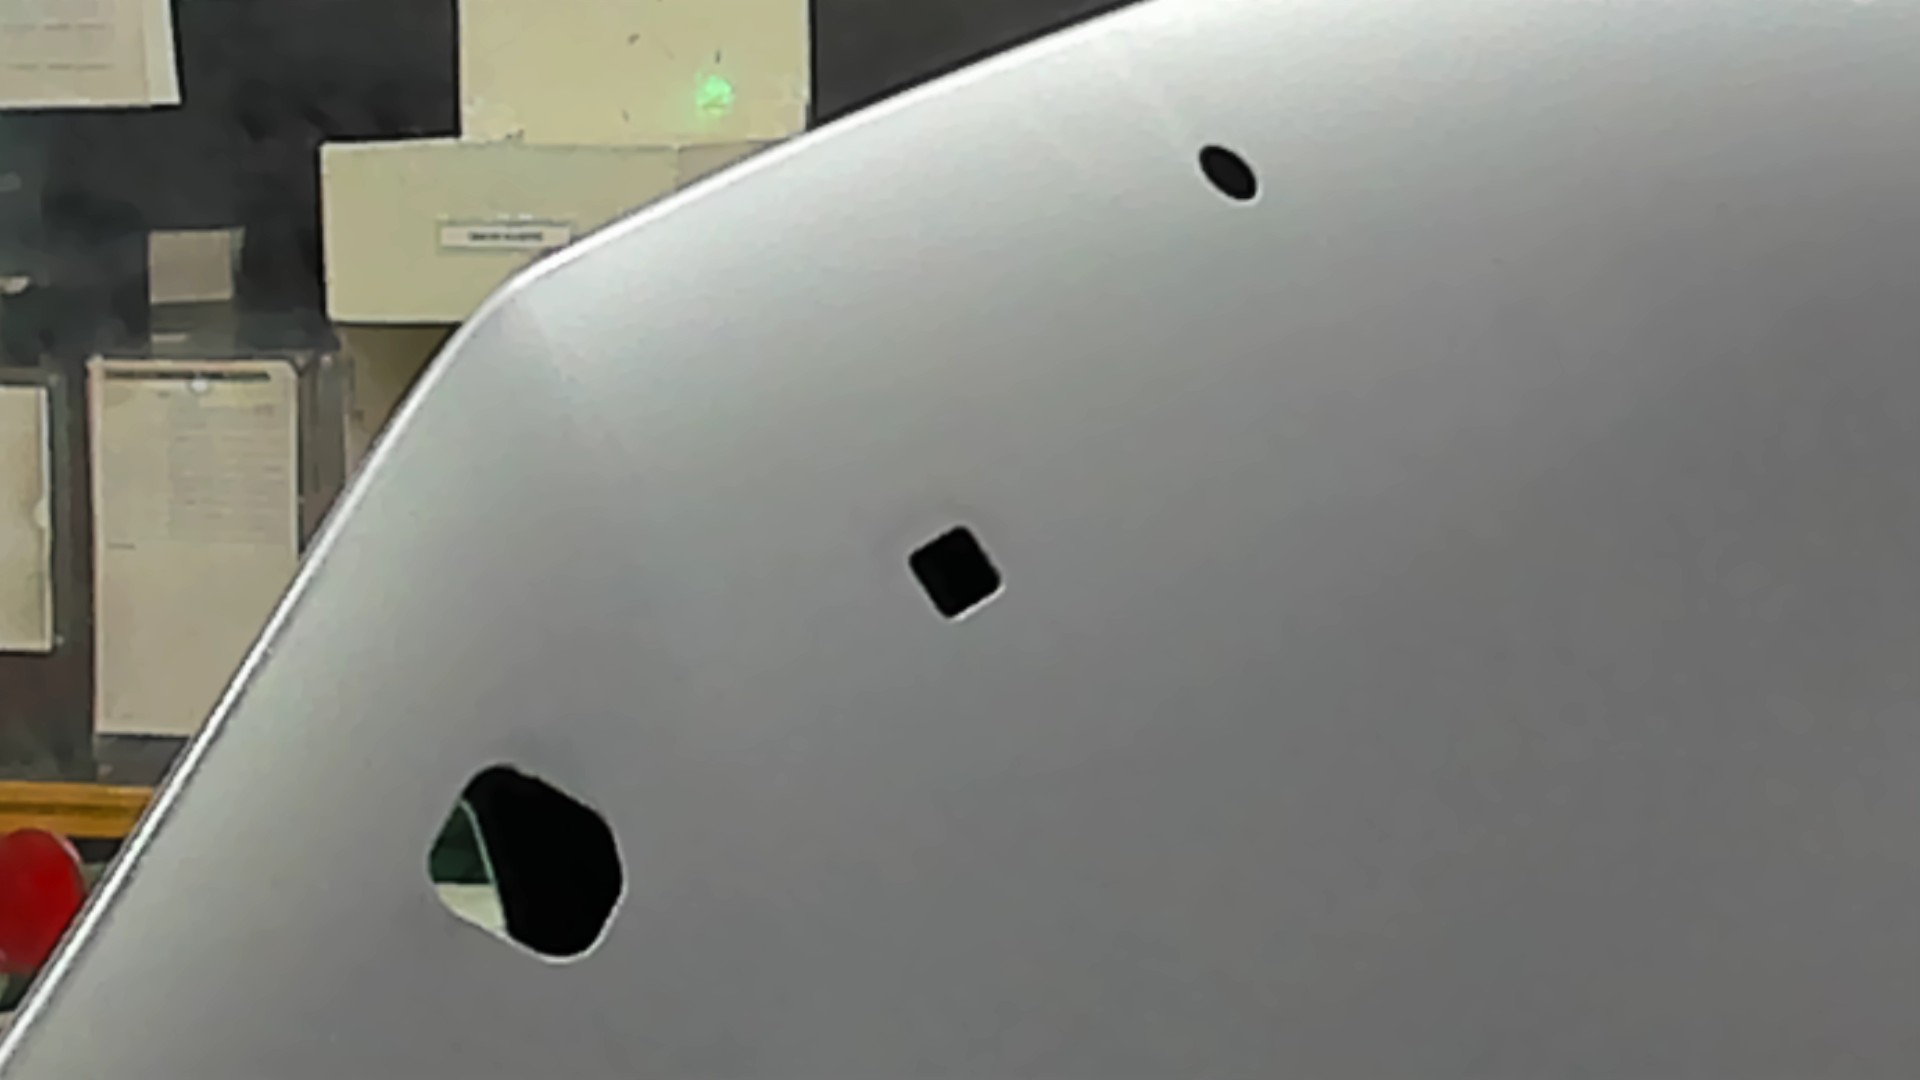chico: (1188, 136, 1266, 208)
grande: (405, 764, 644, 982)
mediano: (893, 516, 1027, 626)
